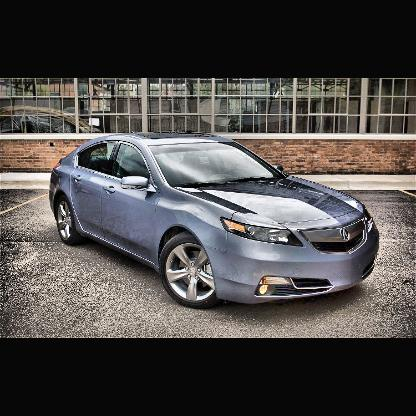Acura TL Sedan 2012: (47, 129, 381, 313)
